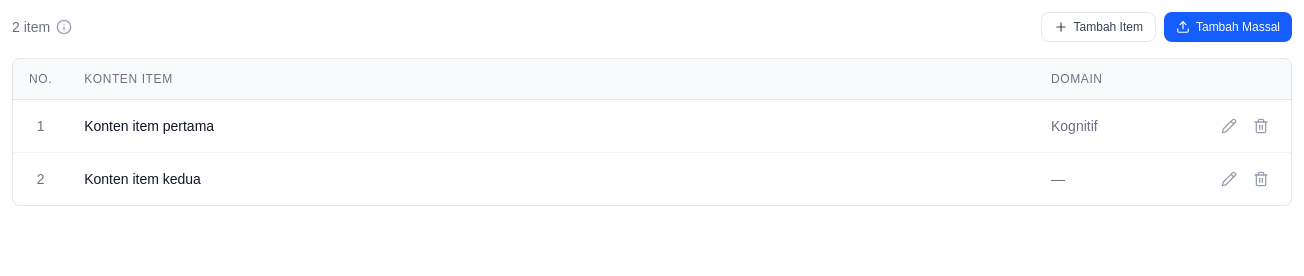
Test: ItemsManager › harus masuk mode edit saat tombol edit item diklik
The width and height of the screenshot is (1304, 276).
Click the button titled "Edit" in the row of "Konten item pertama": (1229, 126) [1215,112,1243,140]
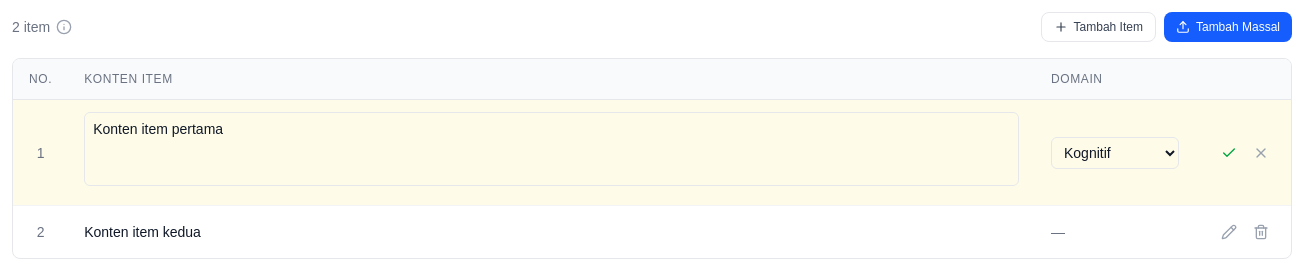
Result: the text box showing "Konten item pertama" is shown at [84,112,1019,186]
